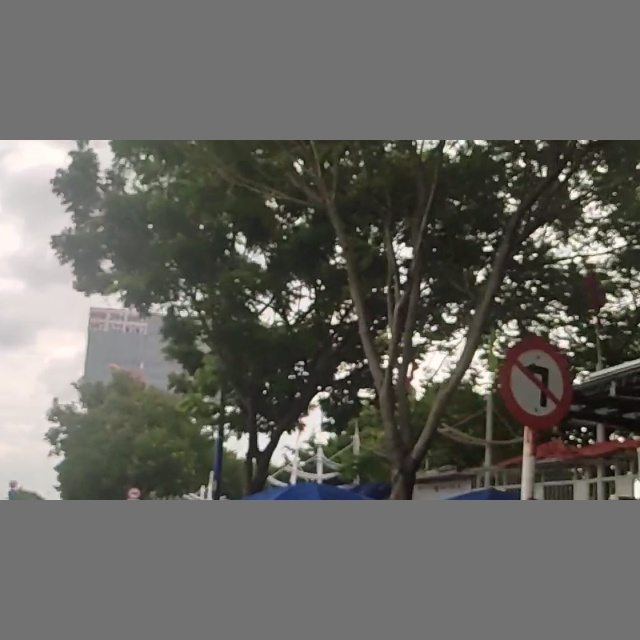P.123a: (499, 337, 572, 425)
